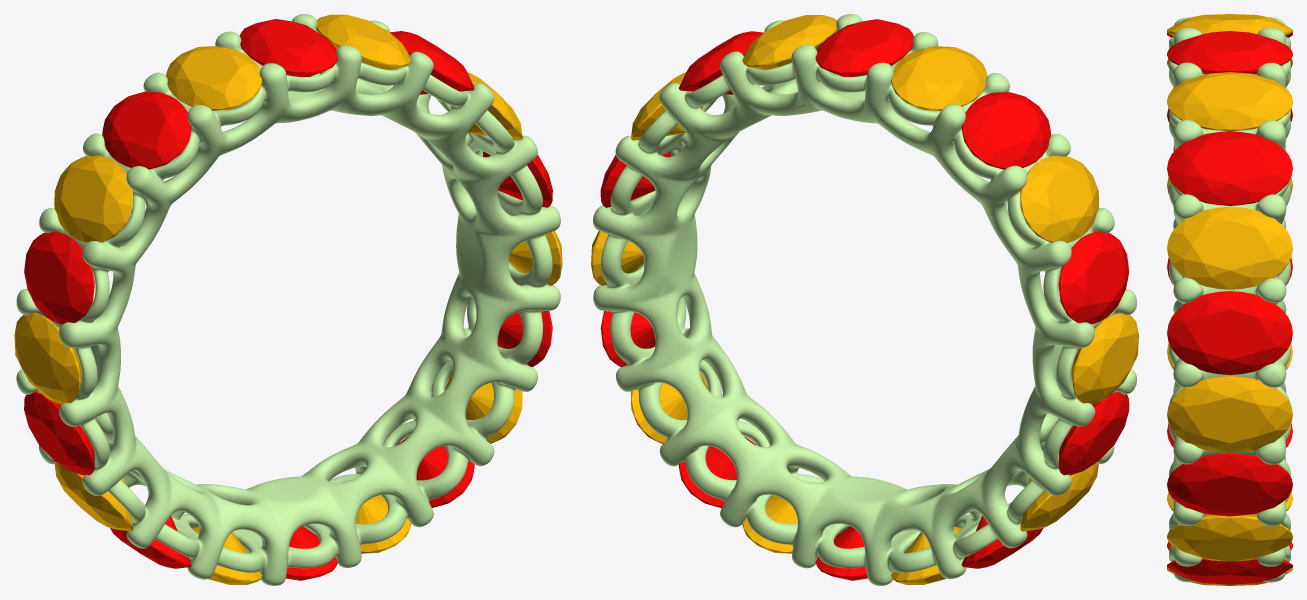
The model's file is TCC-RN-CR-32198-Oval-Eternity-25.glb.
3 renders of one model, left to right at view 1: azimuth 30°, elevation 25°; view 2: azimuth 150°, elevation 25°; view 3: azimuth 270°, elevation 25°, orthographic. The views are drawn at different scales.
Parts seen in each view (by area): view 1: Metal03, Diamond Band02.001, Diamond Band01, Diamond Band01.001, Diamond Band02, Diamond Band02.002, Diamond Band01.009, Diamond Band01.002, Diamond Band02.009, Diamond Band02.003, Diamond Band01.008, Diamond Band02.006 (+9 smaller); view 2: Metal03, Diamond Band02.001, Diamond Band01, Diamond Band01.001, Diamond Band02, Diamond Band02.002, Diamond Band01.009, Diamond Band01.002, Diamond Band02.009, Diamond Band02.003, Diamond Band01.008, Diamond Band02.006 (+9 smaller); view 3: Metal03, Diamond Band01.007, Diamond Band02.008, Diamond Band02.007, Diamond Band01.008, Diamond Band01.006, Diamond Band02.009, Diamond Band02.006, Diamond Band01.009, Diamond Band01.005, Diamond Band02, Diamond Band02.005.
Boxes of the visible parts, x1,y1,x2,y2 form: Metal03: (16,14,560,585); Diamond Band02.001: (54,155,133,242); Diamond Band01: (102,91,191,169); Diamond Band01.001: (24,231,94,323); Diamond Band02: (166,46,262,110); Diamond Band02.002: (14,313,81,404); Diamond Band01.009: (239,19,337,76); Diamond Band01.002: (24,392,94,475); Diamond Band02.009: (316,14,410,69); Diamond Band02.003: (54,463,132,531); Diamond Band01.008: (390,31,474,94); Diamond Band02.006: (445,373,522,443); Metal03: (593,14,1137,585); Diamond Band02.001: (1020,155,1098,242); Diamond Band01: (961,92,1051,169); Diamond Band01.001: (1058,231,1129,324); Diamond Band02: (891,46,987,110); Diamond Band02.002: (1071,313,1138,404); Diamond Band01.009: (815,19,913,76); Diamond Band01.002: (1058,392,1129,475); Diamond Band02.009: (742,15,837,70); Diamond Band02.003: (1020,463,1098,531); Diamond Band01.008: (679,31,763,94); Diamond Band02.006: (631,373,707,443); Metal03: (1169,17,1290,582); Diamond Band01.007: (1167,291,1292,374); Diamond Band02.008: (1167,206,1292,289); Diamond Band02.007: (1167,376,1292,453); Diamond Band01.008: (1167,131,1292,205); Diamond Band01.006: (1167,453,1292,516); Diamond Band02.009: (1167,72,1292,131); Diamond Band02.006: (1167,514,1292,561); Diamond Band01.009: (1167,31,1292,74); Diamond Band01.005: (1167,558,1292,584); Diamond Band02: (1167,14,1292,35); Diamond Band02.005: (1167,567,1292,585).
Size of the model in its own units: 24.01 by 24.01 by 5.3.
